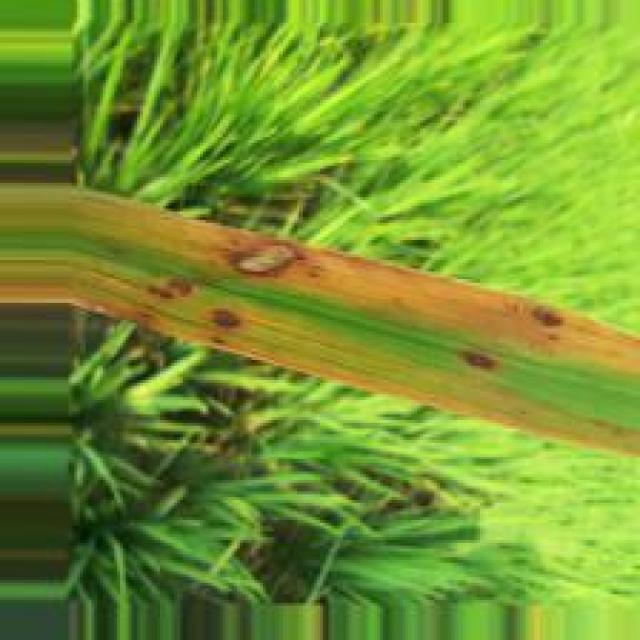Leaf_Blast: (207, 230, 640, 376), (0, 279, 248, 349)
